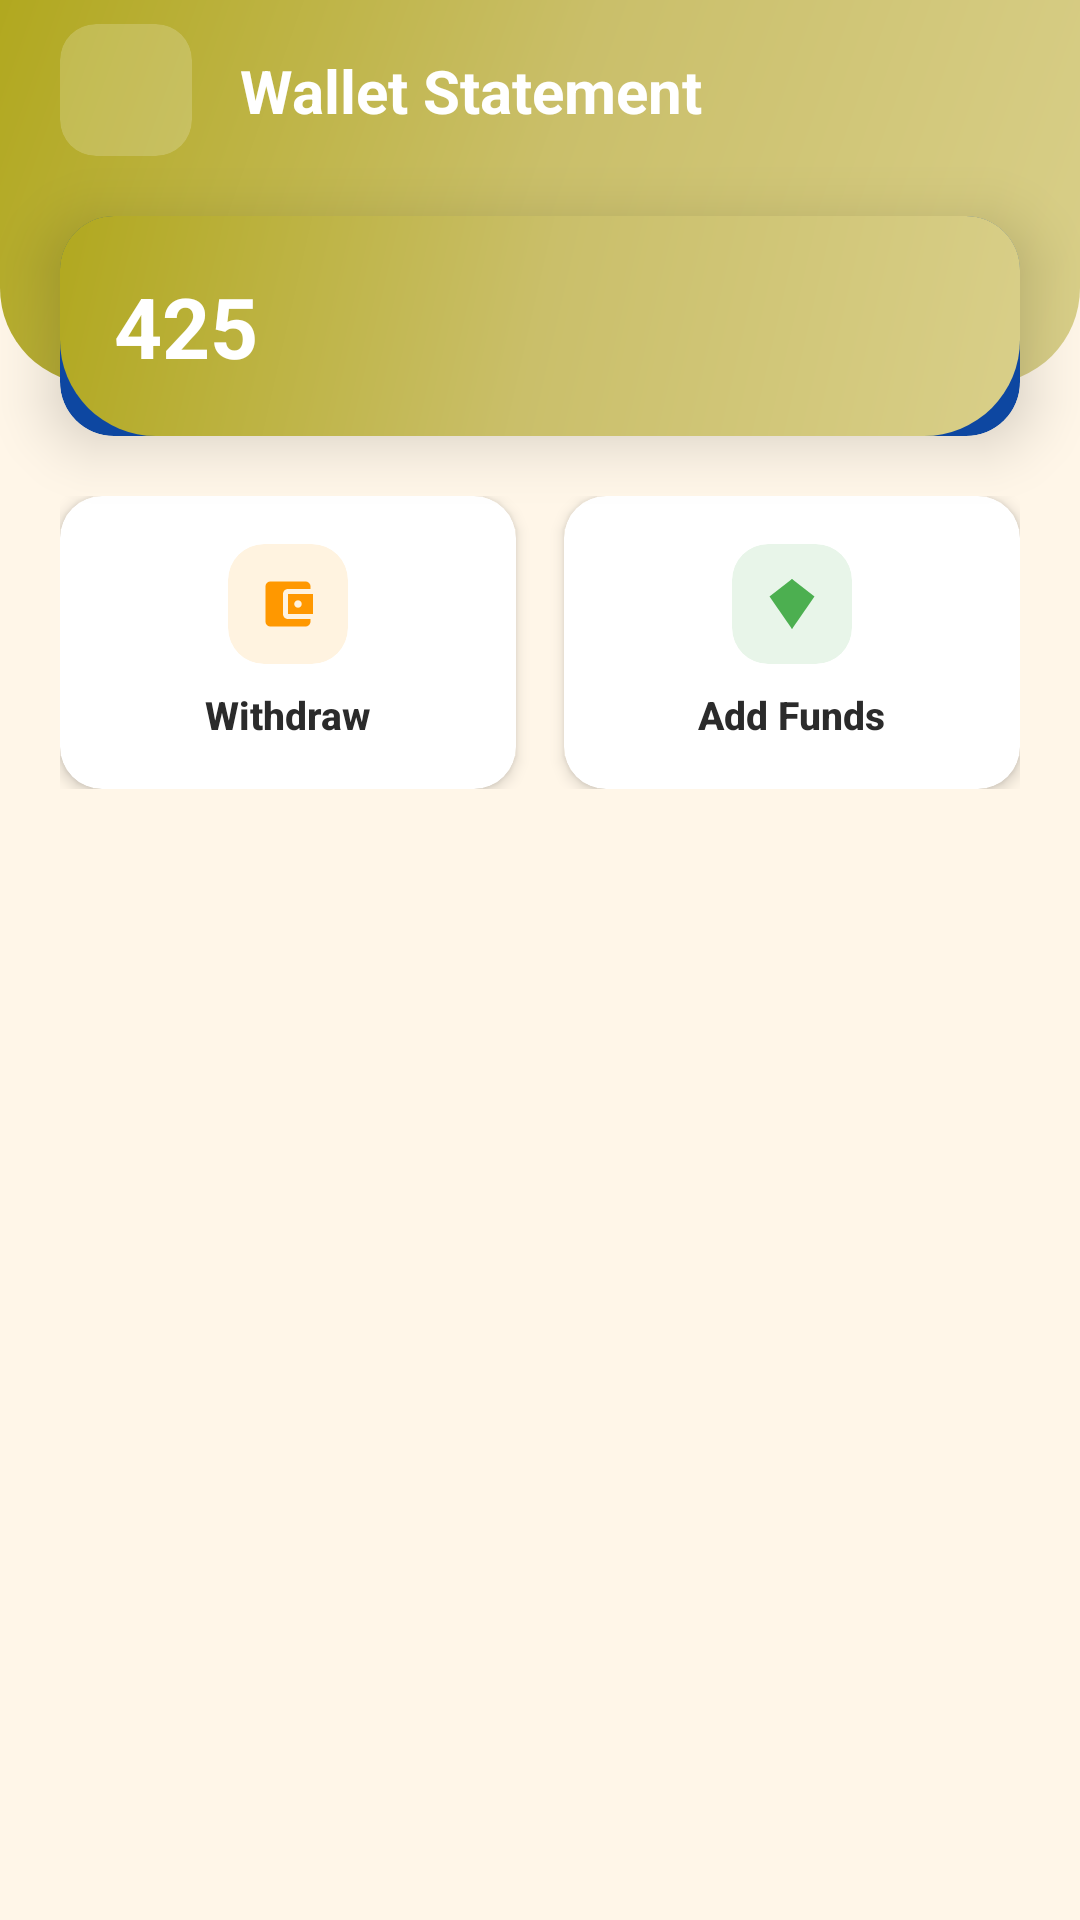

Screen size 1080px×1920px. Icon name, then its center in pixels as (x,y):
diamond: (792,604)
wallet: (289,604)
